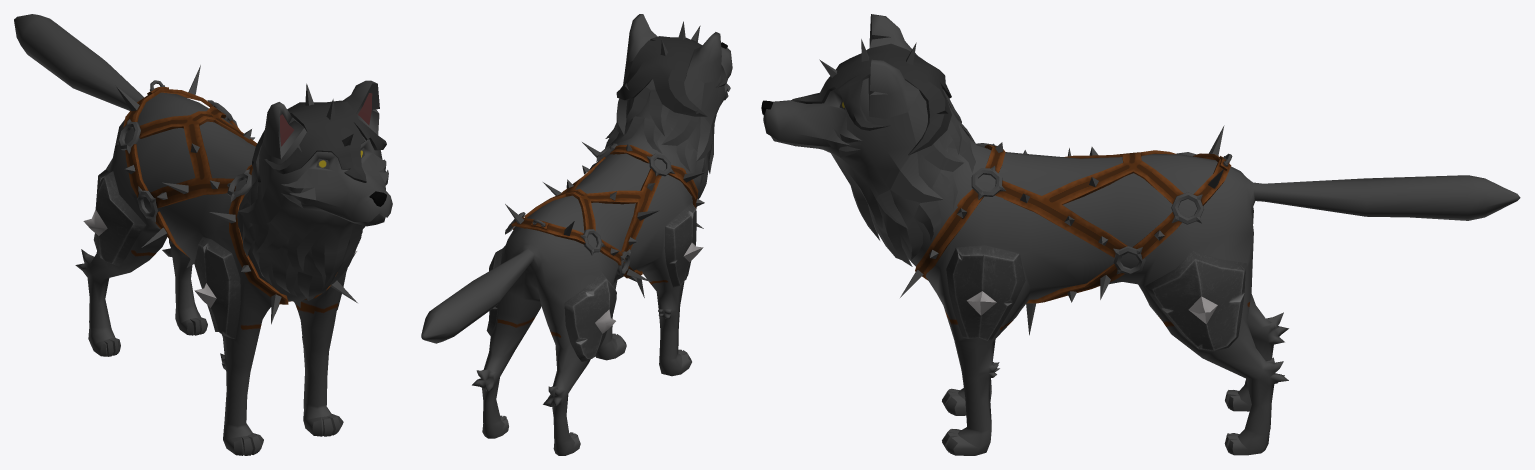
File: Dog_Husky.fbx
3 renders of one model, left to right at view 1: azimuth 30°, elevation 25°; view 2: azimuth 150°, elevation 25°; view 3: azimuth 270°, elevation 25°, orthographic. The views are drawn at different scales.
Parts seen in each view (by area): view 1: LOBO_CARGA.003, Torus.001, LOBO_CARGA.002; view 2: LOBO_CARGA.003, Torus.001, LOBO_CARGA.002; view 3: LOBO_CARGA.003, Torus.001, LOBO_CARGA.002.
Part boxes in pixels (x1,y1,x2,y2): LOBO_CARGA.003: (14,14,392,455); Torus.001: (115,65,357,324); LOBO_CARGA.002: (252,83,386,182); LOBO_CARGA.003: (421,14,732,455); Torus.001: (505,142,705,297); LOBO_CARGA.002: (616,21,727,116); LOBO_CARGA.003: (763,14,1520,455); Torus.001: (900,125,1232,335); LOBO_CARGA.002: (792,39,951,155).
Size of the model in its own units: 264 by 566 by 993.
Materials: 1 (1 with a texture image).
